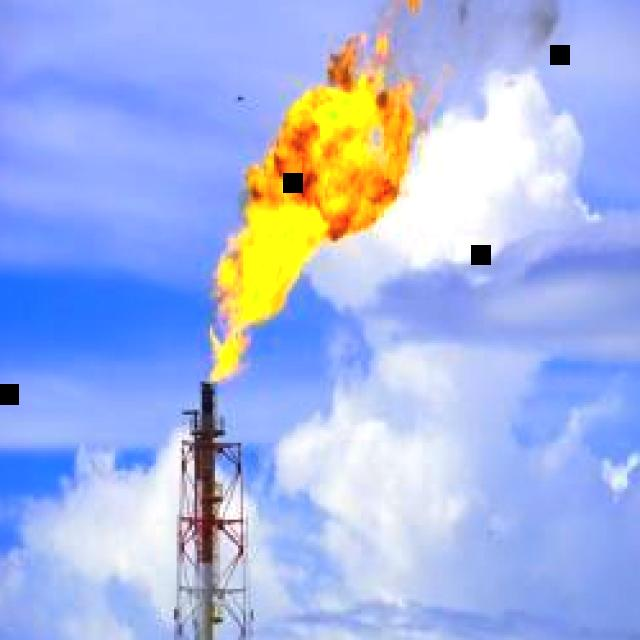fire: (208, 26, 415, 383), (387, 0, 422, 19)
